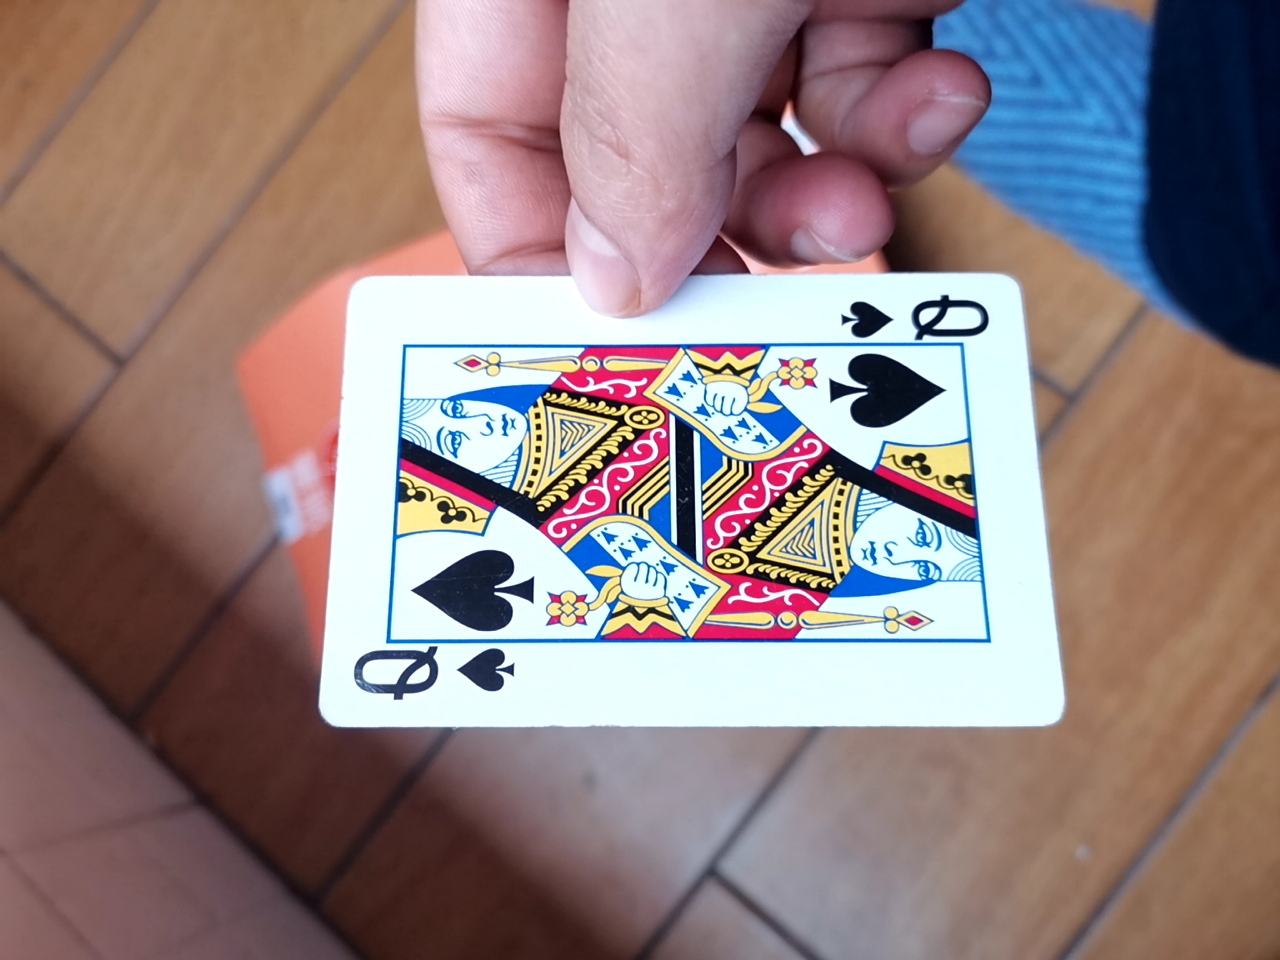ht q: (303, 251, 1059, 748)
